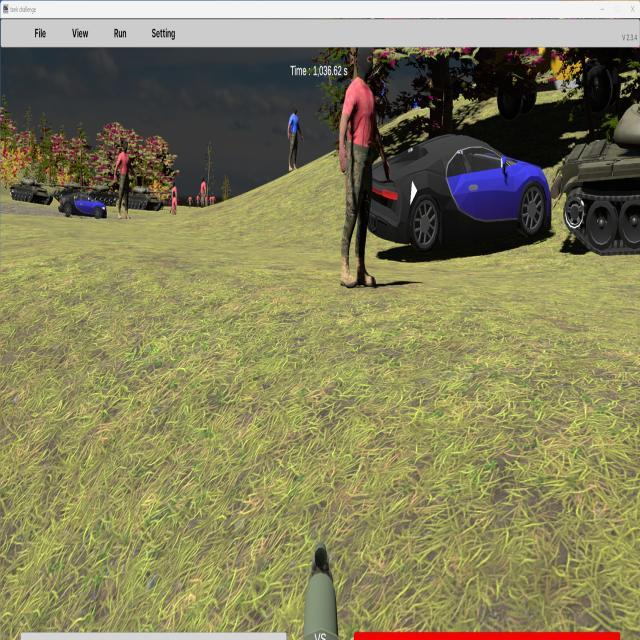Human: (340, 48, 390, 289), (114, 142, 136, 219), (288, 105, 303, 171)
Tank: (555, 96, 640, 258), (9, 176, 60, 205), (114, 186, 169, 212)
car: (346, 133, 552, 255), (58, 191, 107, 220), (59, 191, 107, 220)
